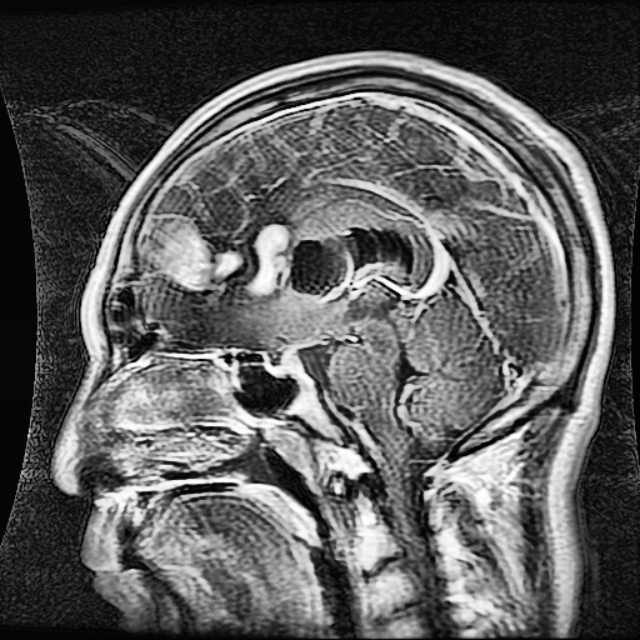Meningioma: (140, 218, 417, 324)
